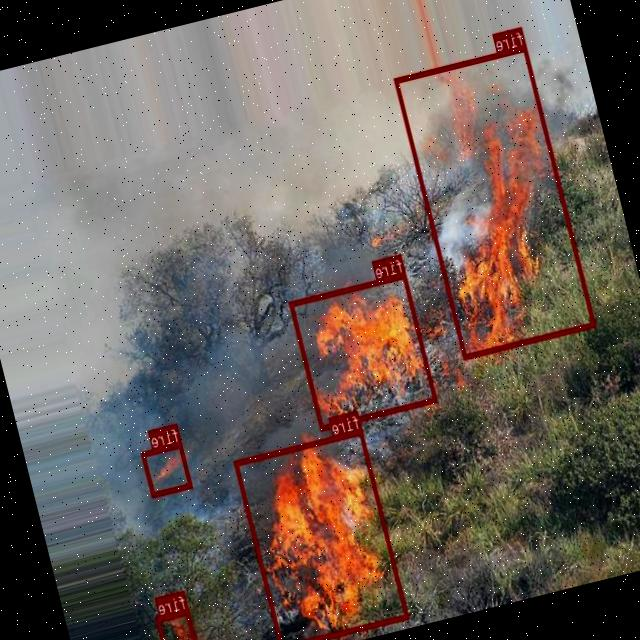fire: (394, 44, 597, 359), (234, 427, 409, 640), (288, 271, 438, 429), (141, 441, 193, 497), (155, 607, 203, 640)
